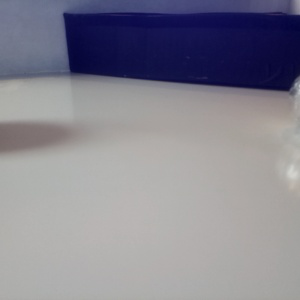zone: (62, 12, 300, 92)
